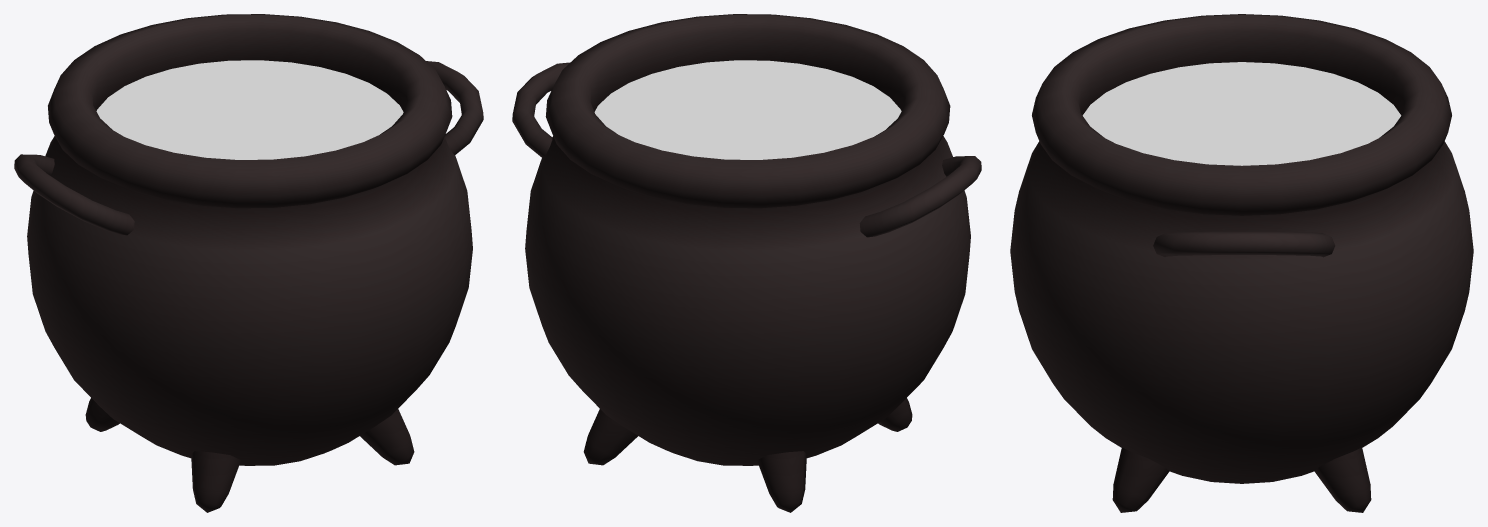
File: SM_Cauldron_01.fbx
3 views of the same model, side by side, from view 1: azimuth 30°, elevation 25°; view 2: azimuth 150°, elevation 25°; view 3: azimuth 270°, elevation 25° (orthographic). The views are drawn at different scales.
Visible parts, largest first — view 1: Cauldron, Liquid; view 2: Cauldron, Liquid; view 3: Cauldron, Liquid.
Boxes of the visible parts, x1,y1,x2,y2 form: Cauldron: (14, 14, 483, 512); Liquid: (96, 60, 403, 159); Cauldron: (512, 14, 981, 512); Liquid: (594, 60, 901, 159); Cauldron: (1010, 14, 1473, 512); Liquid: (1082, 62, 1401, 165).
Bounding box in the file's own units: 223 × 177 × 200.
